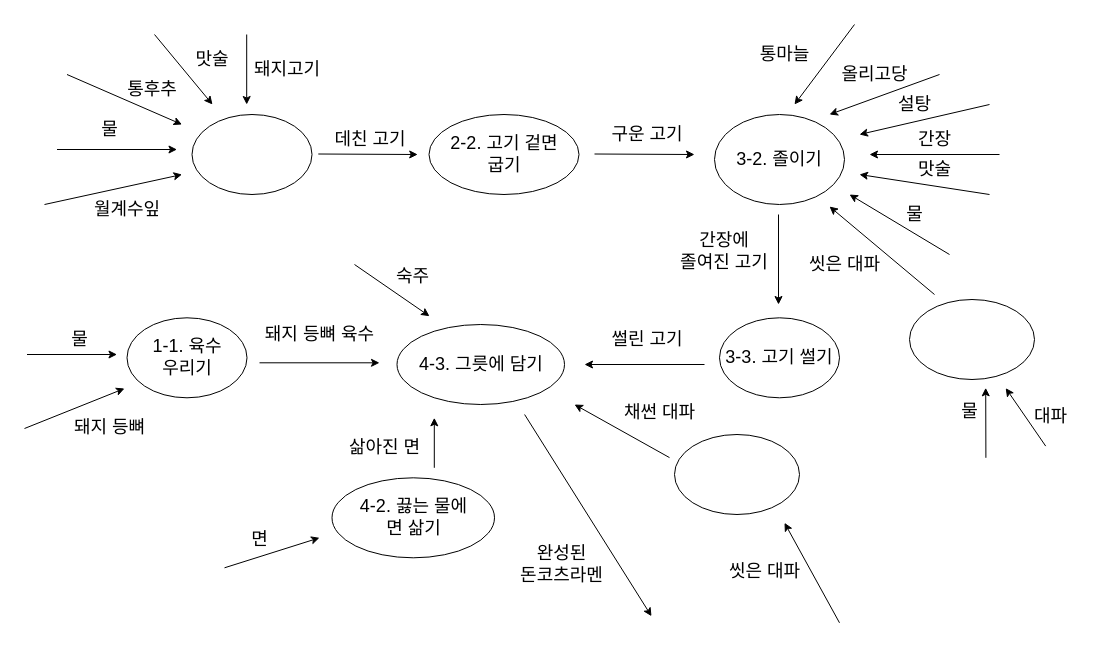
Some shapes in this 1093 by 649 pixel diagram are drawn without their labels. Each missing label, with the centre of its shape:
2-1. 고기 데치기: the point at 251,154
3-1. 대파 씻기: the point at 971,339
4-1. 대파 채썰기: the point at 737,474
